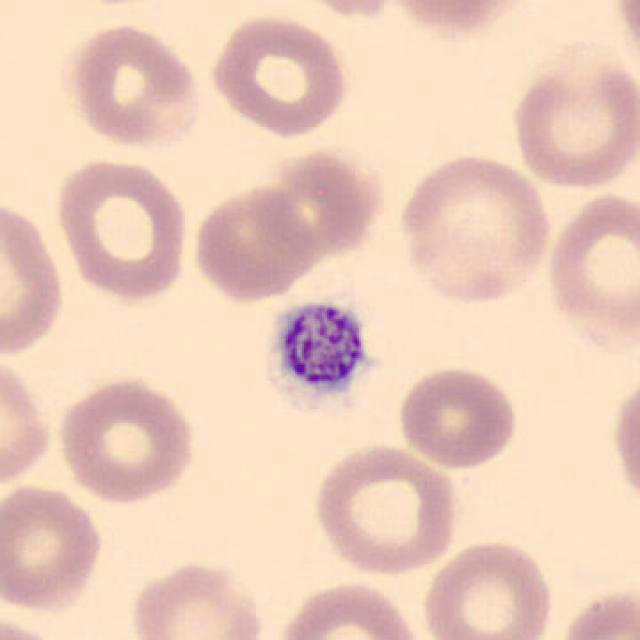platelets: (279, 297, 366, 398)
rbc: (402, 156, 550, 306), (50, 162, 190, 294), (504, 52, 640, 187), (310, 448, 460, 569), (70, 26, 206, 153), (63, 380, 198, 497), (210, 20, 344, 134), (0, 480, 110, 613), (200, 189, 322, 307), (270, 158, 388, 264), (428, 543, 553, 640), (551, 196, 640, 332), (399, 371, 522, 466), (133, 557, 258, 640), (0, 196, 67, 346), (278, 569, 414, 640), (395, 0, 519, 37), (603, 388, 640, 499), (574, 583, 640, 640)
